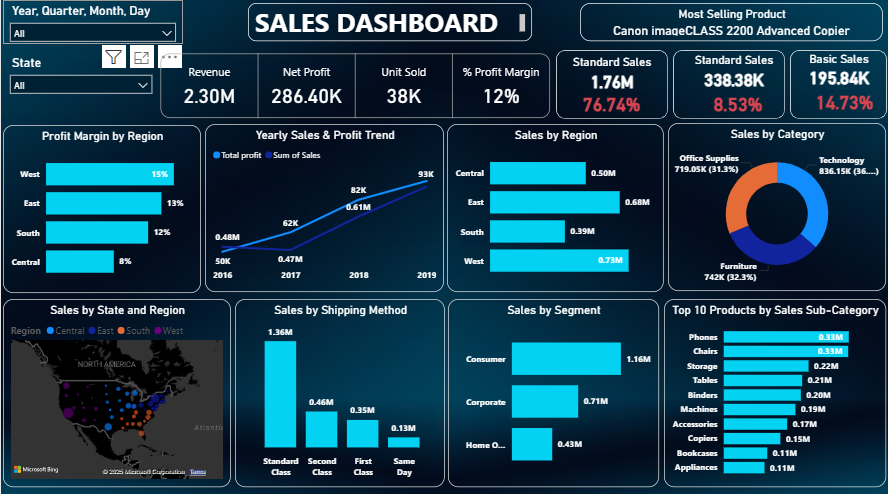

What the dashboard file says about the page in this screenshot:
{"tool":"powerbi","page":{"name":"Page 1","canvas":[1280,720],"ordinal":0},"visuals":[{"type":"card","title":"Basic Sales","fields":{"Values":["Orders.L_sale"]},"box":[1133.3,77.8,146.9,54.7],"z":0},{"type":"card","title":"Standard Sales","fields":{"Values":["Orders.M_Sale"]},"box":[974.9,79.2,161.3,56.2],"z":1000},{"type":"card","fields":{"Values":["Orders.% H_sale"]},"box":[810.7,126.7,136.8,51.8],"z":2000},{"type":"card","fields":{"Values":["Orders.% L_sale"]},"box":[989.3,132.5,144,38.9],"z":3000},{"type":"card","fields":{"Values":["Orders.% M_Sale"]},"box":[1149.1,126.7,131,44.6],"z":4000},{"type":"clusteredBarChart","title":" Sales by Segment","fields":{"Category":["Orders.Segment"],"Y":["Sum(Orders.Sales)"]},"box":[643.7,433.4,303.8,270.7],"z":5000},{"type":"clusteredBarChart","title":"Top 10 Products by Sales Sub-Category","fields":{"Category":["Orders.Sub-Category"],"Y":["Orders.Total_sale"]},"box":[954.7,433.4,319.7,270.7],"z":6000},{"type":"lineChart","title":"Yearly Sales & Profit Trend","fields":{"Category":["Orders.Order Date.Variation.Date Hierarchy.Year"],"Y":["Orders.Total profit"],"Y2":["Sum(Orders.Sales)"]},"box":[293.8,181.4,344.2,241.9],"z":7000},{"type":"barChart","title":"Sales by Region","fields":{"Category":["Orders.Region"],"Y":["Sum(Orders.Sales)"]},"box":[642.2,181.4,312.5,241.9],"z":8000},{"type":"clusteredColumnChart","title":"Sales by Shipping Method","fields":{"Category":["Orders.Ship Mode"],"Y":["Orders.Total_sale"]},"box":[336.5,433.4,302.4,270.7],"z":9000},{"type":"donutChart","title":" Sales by Category","fields":{"Category":["Orders.Category"],"Y":["Sum(Orders.Sales)"]},"box":[960.5,180,313.9,241.9],"z":10000},{"type":"card","title":"Most Selling Product","fields":{"Values":["Orders.Most Selling Product"]},"box":[833.8,7.2,436.3,54.7],"z":11000},{"type":"slicer","fields":{"Values":["Orders.Order Date.Variation.Date Hierarchy.Year","Orders.Order Date.Variation.Date Hierarchy.Quarter","Orders.Order Date.Variation.Date Hierarchy.Month","Orders.Order Date.Variation.Date Hierarchy.Day"]},"box":[2.9,2.9,259.2,63.4],"z":12000},{"type":"map","title":"Sales by State and Region","fields":{"Category":["Orders.State"],"Series":["Orders.Region"],"Size":["Orders.Total_sale"]},"box":[2.9,433.4,328.3,270.7],"z":13000},{"type":"slicer","fields":{"Values":["Orders.State"]},"box":[2.9,77.8,224.6,63.4],"z":14000},{"type":"barChart","title":"Profit Margin by Region","fields":{"Category":["Orders.Region"],"Y":["Orders.Profit_Margin%"]},"box":[2.9,182.9,285.1,241.9],"z":15000},{"type":"textbox","box":[355.7,7.2,409,54.7],"z":16000},{"type":"cardVisual","fields":{"Data":["Orders.Total_sale","Orders.Total profit","Sum(Orders.Quantity)","Orders.Profit_Margin%"]},"box":[224.6,74.9,573.1,103.7],"z":17000},{"type":"shape","box":[1136.2,74.9,139.7,99.4],"z":18000},{"type":"shape","box":[967.7,74.9,161.3,99.4],"z":19000},{"type":"shape","box":[799.2,74.9,161.3,99.4],"z":20000},{"type":"card","title":"Standard Sales","fields":{"Values":["Orders.Top Tier Sales"]},"box":[799.2,82.1,161.3,56.2],"z":21000}]}

Visuals, with their boxes in screenshot pixels (x1, y1, x2, y2), scaled from the page's 1280x720 canvas onto the 888x494 screenshot:
"Basic Sales" card: BBox(786, 53, 887, 91)
"Standard Sales" card: BBox(676, 54, 788, 93)
card - Orders.% H_sale: BBox(562, 87, 657, 122)
card - Orders.% L_sale: BBox(686, 91, 786, 118)
card - Orders.% M_Sale: BBox(797, 87, 887, 118)
" Sales by Segment" clusteredBarChart: BBox(447, 297, 657, 483)
"Top 10 Products by Sales Sub-Category" clusteredBarChart: BBox(662, 297, 884, 483)
"Yearly Sales & Profit Trend" lineChart: BBox(204, 124, 443, 290)
"Sales by Region" barChart: BBox(446, 124, 662, 290)
"Sales by Shipping Method" clusteredColumnChart: BBox(233, 297, 443, 483)
" Sales by Category" donutChart: BBox(666, 124, 884, 289)
"Most Selling Product" card: BBox(578, 5, 881, 42)
slicer - Orders.Order Date.Variation.Date Hierarchy.Year x Orders.Order Date.Variation.Date Hierarchy.Quarter: BBox(2, 2, 182, 45)
"Sales by State and Region" map: BBox(2, 297, 230, 483)
slicer - Orders.State: BBox(2, 53, 158, 97)
"Profit Margin by Region" barChart: BBox(2, 125, 200, 291)
textbox: BBox(247, 5, 531, 42)
cardVisual - Orders.Total_sale x Orders.Total profit: BBox(156, 51, 553, 123)
shape: BBox(788, 51, 885, 120)
shape: BBox(671, 51, 783, 120)
shape: BBox(554, 51, 666, 120)
"Standard Sales" card: BBox(554, 56, 666, 95)
